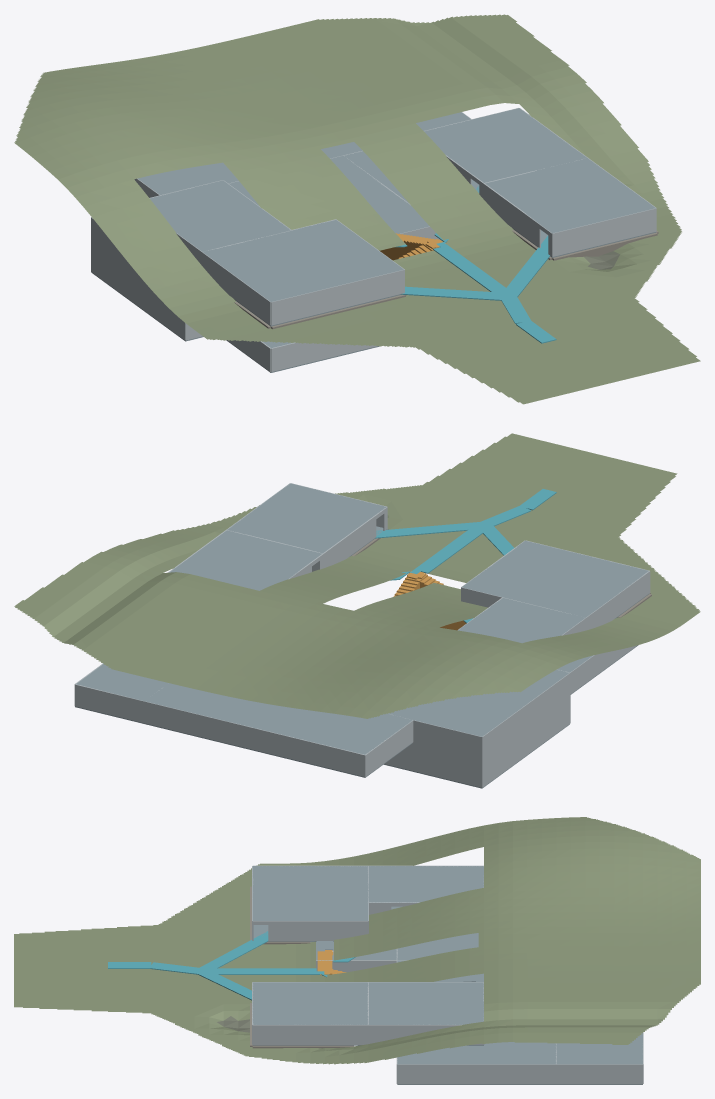
Rendered from supported-stairs.glb.
3 renders of one model, top to bottom at view 1: azimuth 30°, elevation 25°; view 2: azimuth 150°, elevation 25°; view 3: azimuth 270°, elevation 25°, orthographic. The views are drawn at different scales.
Parts seen in each view (by area): view 1: Saved editor macroterrain WLD-05, Ceiling cap shack, Ceiling cap assay, Ceiling cap wash, Ceiling cap stores, Wall shack S, Wall lower W, Wall assay S, Ceiling cap cross, Wall vent S, Wall shack W, Ceiling cap haul.004 (+8 smaller); view 2: Saved editor macroterrain WLD-05, Ceiling cap shack, Ceiling cap cross, Ceiling cap assay, Ceiling cap wash, Wall cross N, Ceiling cap ore-west, Ceiling cap stores, Wall lower W, Wall lower N, Wall ore-west W, Ceiling cap lift (+8 smaller); view 3: Saved editor macroterrain WLD-05, Ceiling cap shack, Ceiling cap assay, Ceiling cap wash, Ceiling cap stores, Wall ore-east E, Ceiling cap ore-east, Wall assay E, Ceiling cap lift, Wall shack E, Wall lift E, Ceiling cap ore-west (+5 smaller).
Boxes of the visible parts, <box> form: Saved editor macroterrain WLD-05: <box>14,14,700,404</box>; Ceiling cap shack: <box>203,220,403,301</box>; Ceiling cap assay: <box>485,158,655,233</box>; Ceiling cap wash: <box>424,108,586,182</box>; Ceiling cap stores: <box>150,180,290,251</box>; Wall shack S: <box>271,269,404,325</box>; Wall lower W: <box>91,241,185,340</box>; Wall assay S: <box>552,208,656,256</box>; Ceiling cap cross: <box>137,142,362,195</box>; Wall vent S: <box>271,342,376,371</box>; Wall shack W: <box>202,252,270,325</box>; Ceiling cap haul.004: <box>363,190,429,233</box>; Saved editor macroterrain WLD-05: <box>14,433,700,718</box>; Ceiling cap shack: <box>462,540,648,617</box>; Ceiling cap cross: <box>144,683,412,754</box>; Ceiling cap assay: <box>227,483,386,553</box>; Ceiling cap wash: <box>169,530,321,590</box>; Wall cross N: <box>144,701,365,776</box>; Ceiling cap ore-west: <box>388,669,569,736</box>; Ceiling cap stores: <box>458,598,585,643</box>; Wall lower W: <box>482,694,570,787</box>; Wall lower N: <box>385,742,482,787</box>; Wall ore-west W: <box>482,673,570,758</box>; Ceiling cap lift: <box>76,663,168,700</box>; Saved editor macroterrain WLD-05: <box>14,817,700,1064</box>; Ceiling cap shack: <box>252,866,368,920</box>; Ceiling cap assay: <box>252,982,368,1024</box>; Ceiling cap wash: <box>368,982,483,1024</box>; Ceiling cap stores: <box>368,866,483,902</box>; Wall ore-east E: <box>397,1064,556,1084</box>; Ceiling cap ore-east: <box>397,1042,556,1064</box>; Wall assay E: <box>252,1024,368,1044</box>; Ceiling cap lift: <box>556,1033,642,1064</box>; Wall shack E: <box>268,921,368,940</box>; Wall lift E: <box>556,1064,642,1084</box>; Ceiling cap ore-west: <box>397,933,478,959</box>.
Bounding box in the file's own units: 70 × 17.77 × 95.
